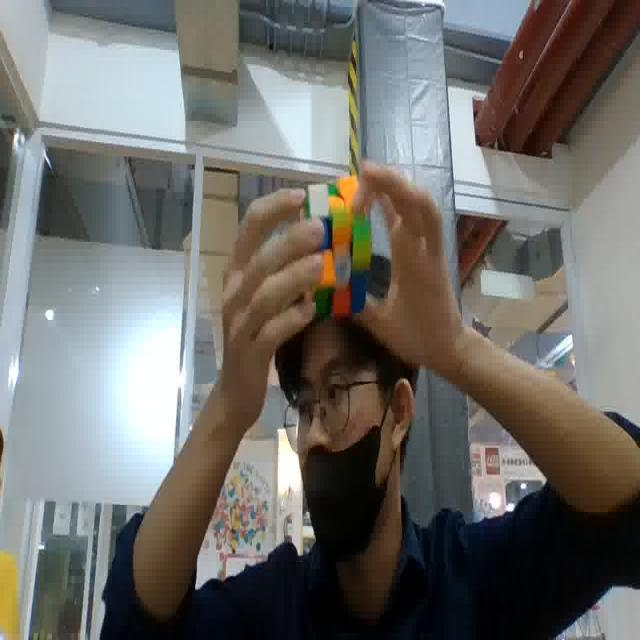Rub: (294, 180, 370, 312)
